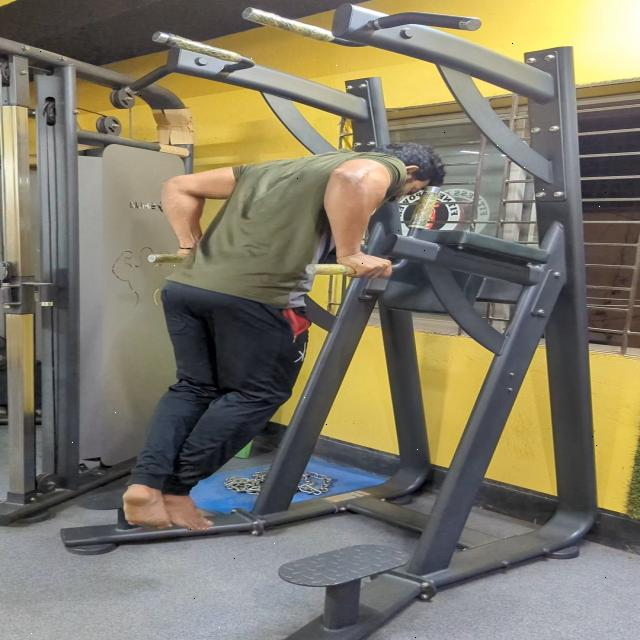Normal_Dips: (0, 103, 496, 578)
